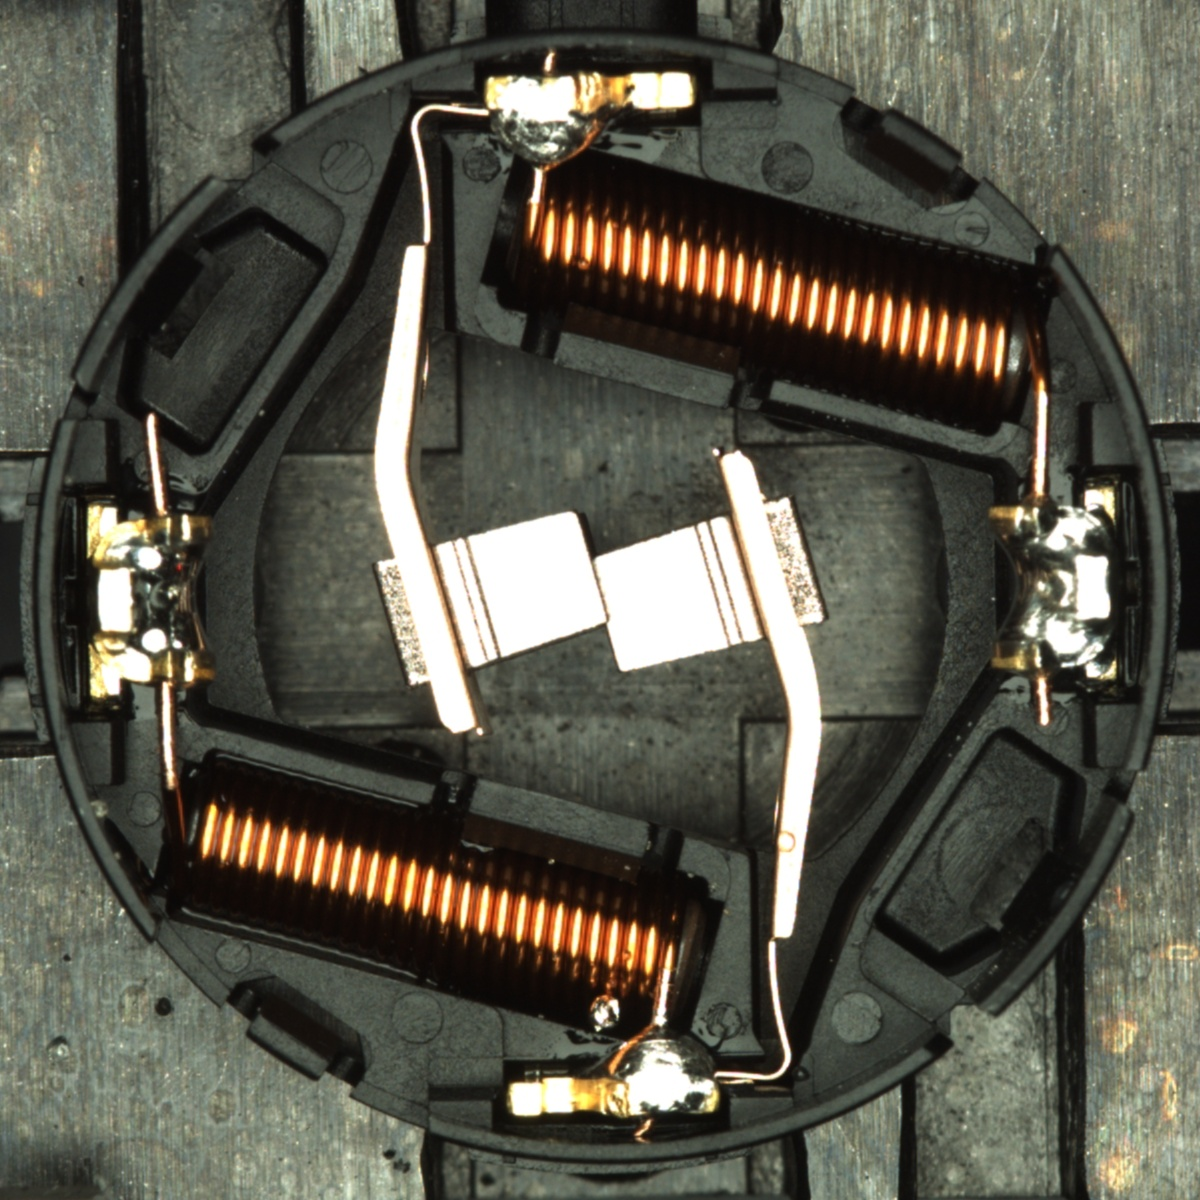1: (253, 30, 482, 255), (712, 927, 941, 1152)
2: (712, 30, 941, 255), (253, 927, 482, 1152)
3: (941, 703, 1170, 927), (24, 255, 253, 479)
4: (253, 255, 482, 479), (712, 703, 941, 927)
5: (482, 142, 712, 367), (482, 815, 712, 1040)
6: (253, 703, 482, 927), (712, 255, 941, 479)
7: (941, 255, 1170, 479), (24, 703, 253, 927)
cacbon: (396, 498, 798, 684)
chau_dien: (982, 486, 1123, 685), (79, 499, 219, 699)
hat_chi: (587, 995, 622, 1031)
tay_choi: (478, 69, 699, 171), (505, 1023, 722, 1122)
thanh_de: (954, 784, 1141, 1033), (58, 163, 244, 405)
vun_chi: (585, 993, 622, 1032)
